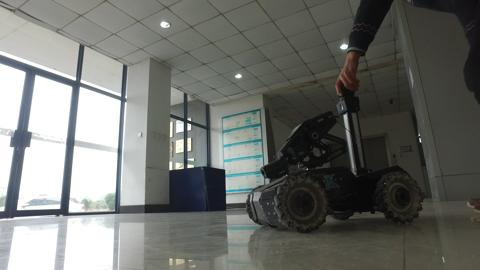chariot: (240, 81, 430, 236)
